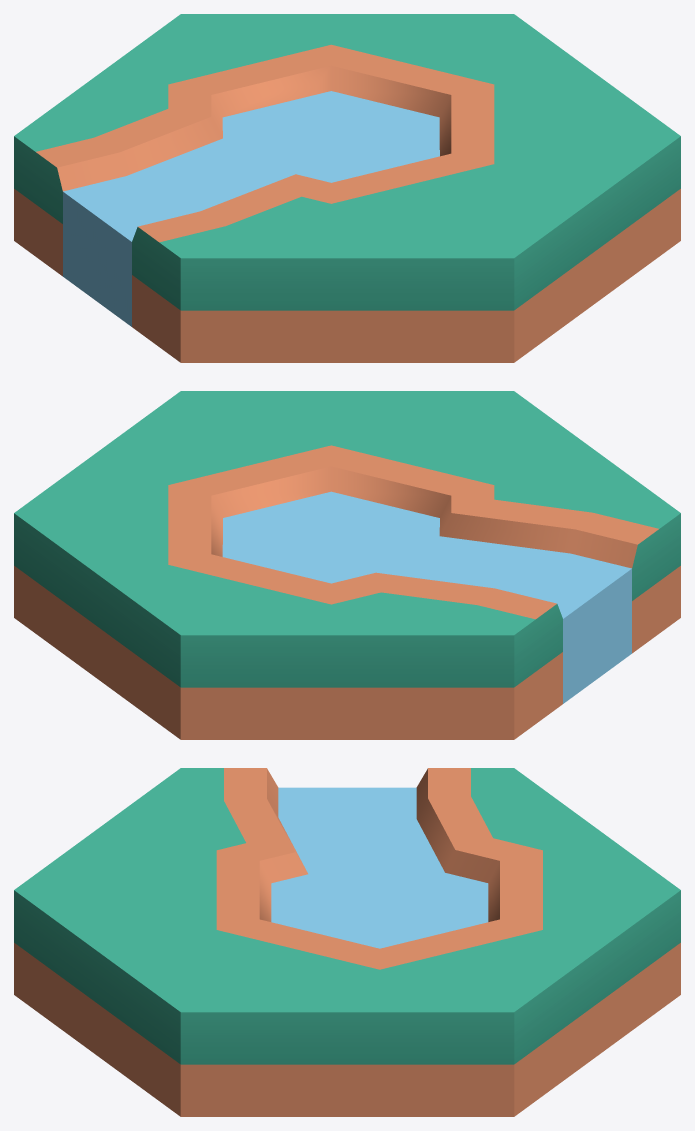
The model's file is kenney-hexagon-river-start.glb.
The picture shows the model from 3 angles, top to bottom: view 1: azimuth 30°, elevation 25°; view 2: azimuth 150°, elevation 25°; view 3: azimuth 270°, elevation 25°; orthographic projection.
Visible parts, largest first — view 1: river_start; view 2: river_start; view 3: river_start.
Part boxes in pixels (x1=…): river_start: x1=14, y1=14, x2=680, y2=362; river_start: x1=14, y1=391, x2=680, y2=739; river_start: x1=14, y1=768, x2=680, y2=1116.
Size of the model in its own units: 1 by 0.2 by 1.15.
1 material, 1 textured.
